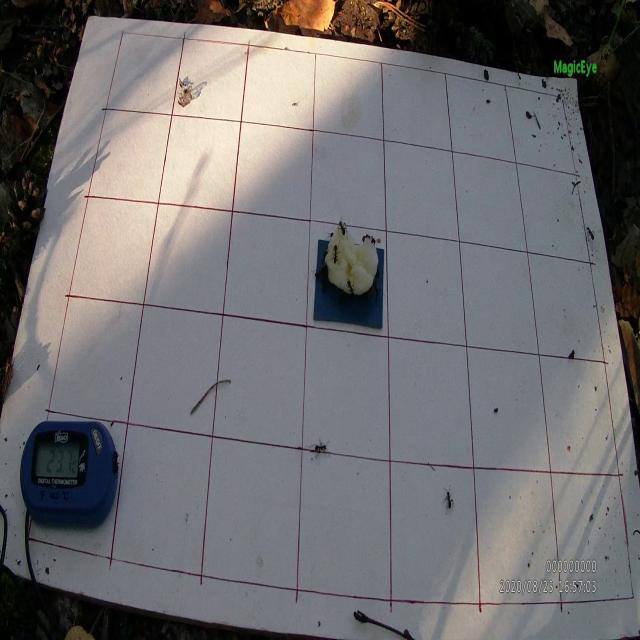Ant: (307, 438, 332, 460), (370, 274, 385, 304), (441, 486, 455, 516), (330, 243, 342, 267), (345, 278, 356, 300), (337, 221, 349, 240), (360, 233, 371, 244)
